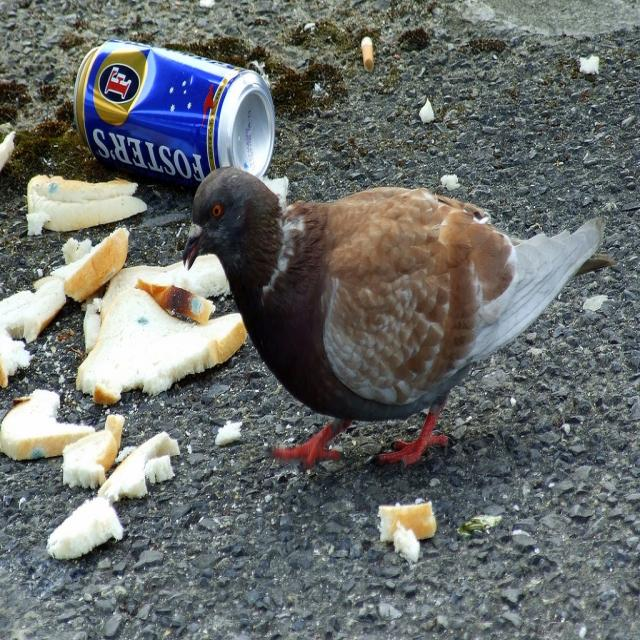fosters: (92, 43, 152, 128)
